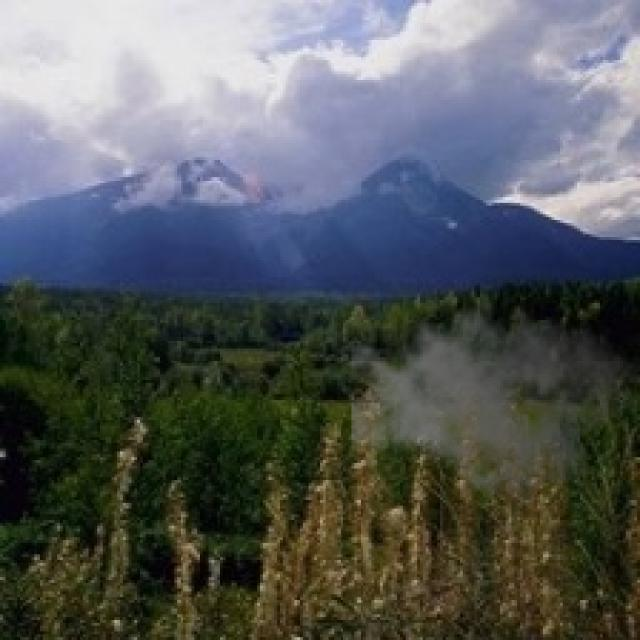smoke: (352, 283, 628, 506)
